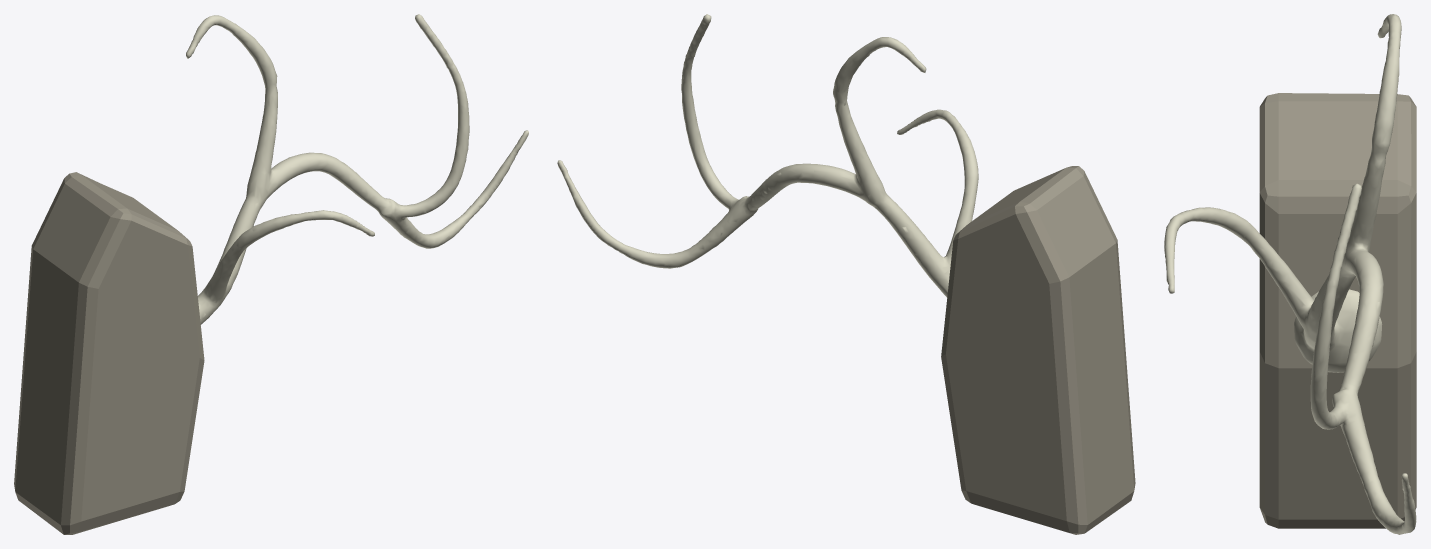
Rendered from helictite.glb.
3 views of the same model, side by side, from view 1: azimuth 30°, elevation 25°; view 2: azimuth 150°, elevation 25°; view 3: azimuth 270°, elevation 25° (orthographic). The views are drawn at different scales.
Parts seen in each view (by area): view 1: declared-original-limestone-attachment-fragment, one-continuous-contorted-mineral-tube-cluster; view 2: declared-original-limestone-attachment-fragment, one-continuous-contorted-mineral-tube-cluster; view 3: declared-original-limestone-attachment-fragment, one-continuous-contorted-mineral-tube-cluster.
Boxes of the visible parts, x1=… form: declared-original-limestone-attachment-fragment: x1=14, y1=172, x2=204, y2=534; one-continuous-contorted-mineral-tube-cluster: x1=186, y1=14, x2=528, y2=324; declared-original-limestone-attachment-fragment: x1=941, y1=166, x2=1135, y2=534; one-continuous-contorted-mineral-tube-cluster: x1=557, y1=14, x2=978, y2=297; declared-original-limestone-attachment-fragment: x1=1259, y1=93, x2=1416, y2=528; one-continuous-contorted-mineral-tube-cluster: x1=1164, y1=14, x2=1416, y2=534.
Size of the model in its own units: 0.2365 by 0.1933 by 0.0768.
